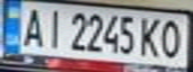2: (84, 10, 106, 54), (66, 8, 87, 53)
4: (103, 11, 124, 55)
5: (118, 12, 139, 56)
A: (18, 5, 48, 48)
I: (39, 6, 66, 51)
K: (136, 15, 163, 58)
O: (157, 16, 187, 60)
